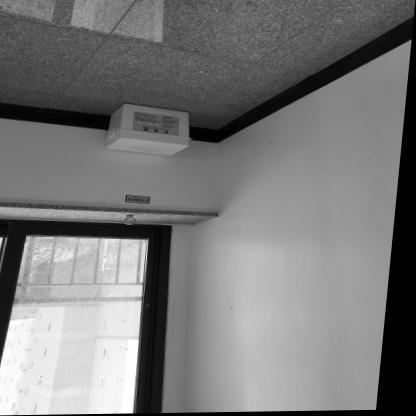DDL: (110, 102, 194, 156)
